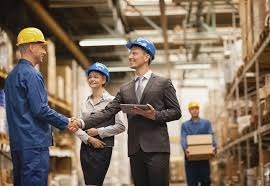helmet: (123, 36, 158, 62), (14, 26, 51, 49), (84, 60, 111, 85), (187, 100, 202, 111)
person with partial safety: (119, 37, 181, 185), (4, 27, 55, 185), (74, 62, 124, 185), (179, 100, 219, 185)
